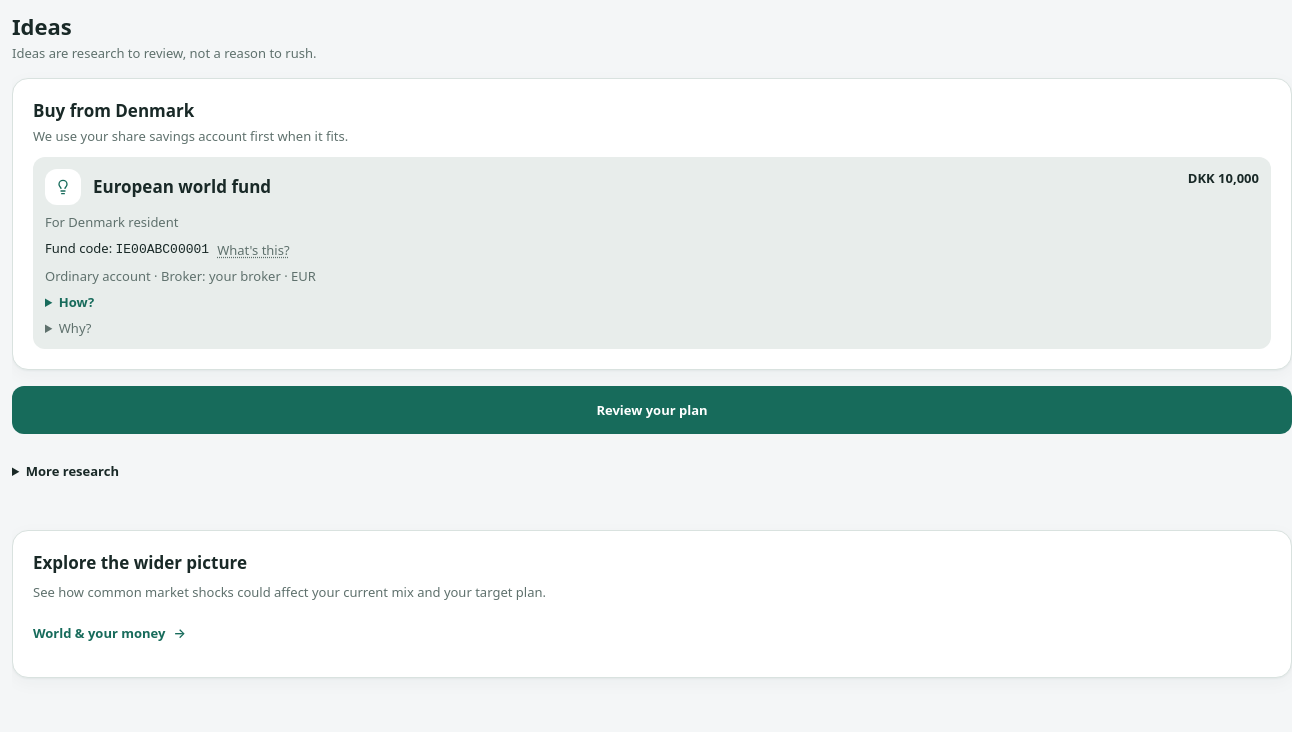
Test case: Ideas page › shows a Danish member's buy line and broker check in a shared household
This screenshot has width=1292, height=732.
Expected: the heading "Buy from Denmark" is shown, 33,99 -> 194,122
Expected: the text "For Denmark resident" is shown, 45,213 -> 178,231
Click the heading "Why?": (75, 328) 59,319 -> 92,337
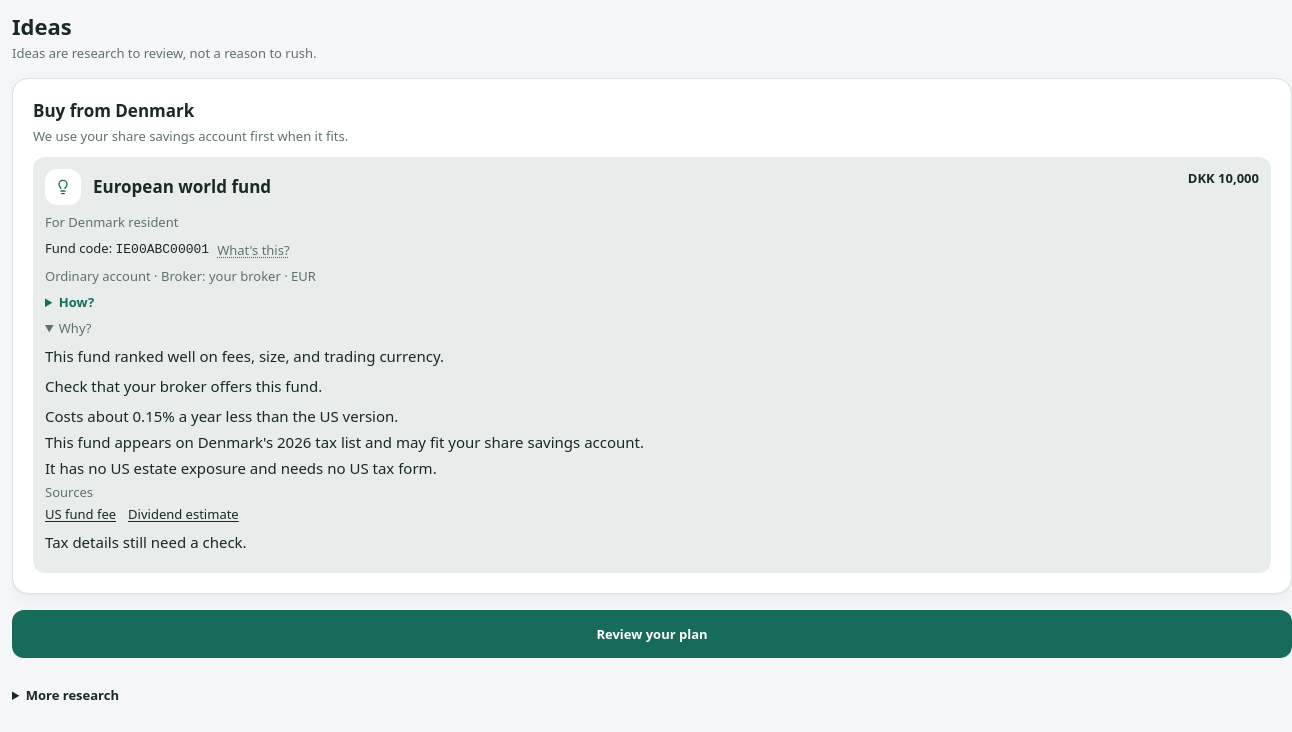
Now the text "Check that your broker offers this fund." is shown, box 45,376 -> 322,396
Now the text "Costs about 0.15% a year less than the US version." is shown, box 45,406 -> 398,426
